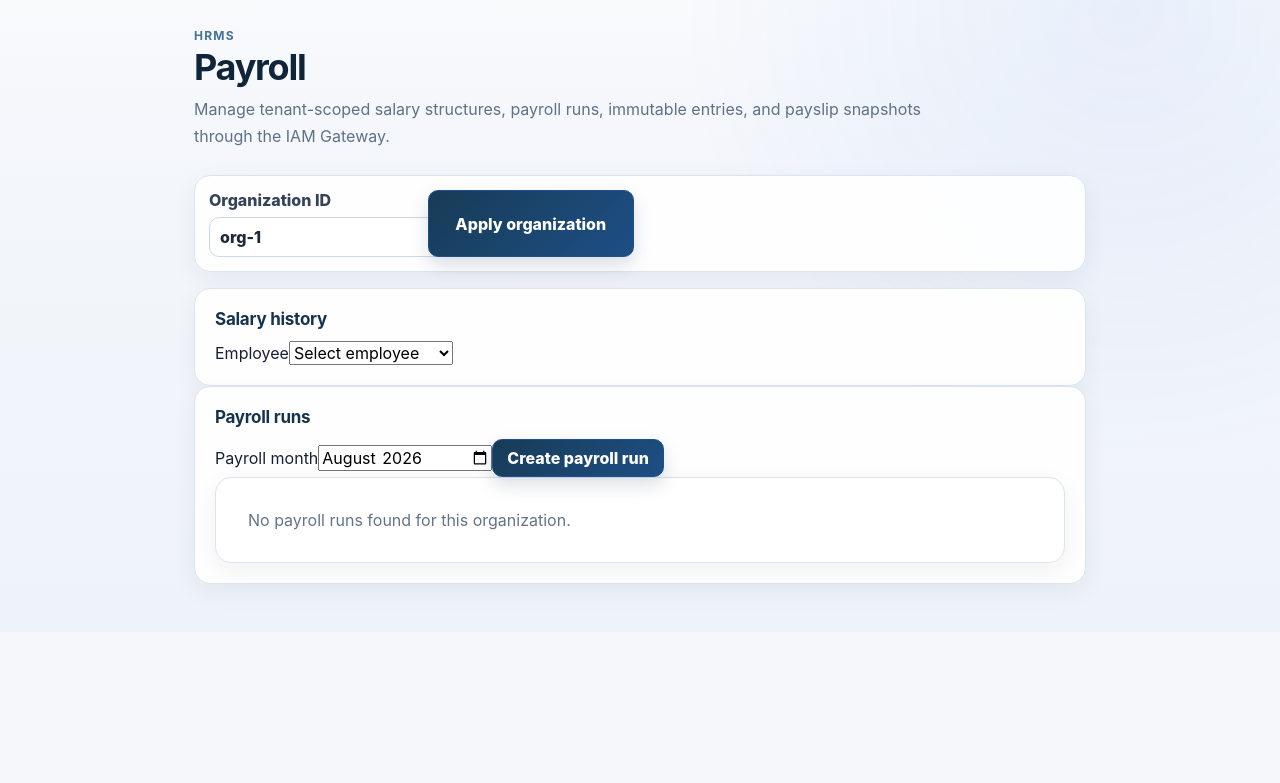
PayrollPage › shows versioned salary history and revises the current version
Select "EMP-001 (ACTIVE)" in the dropdown labelled "Employee" at (371, 353), box [289,341,453,365]
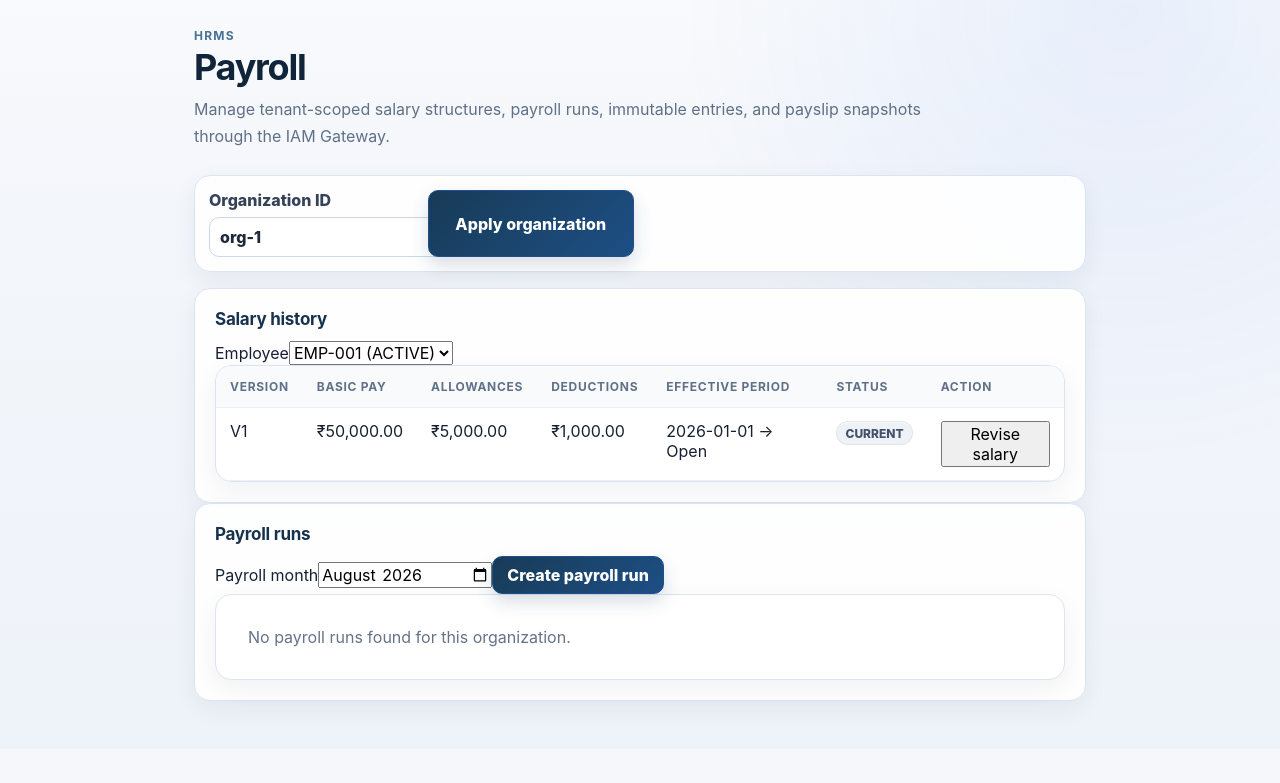
Expected: the text "V1" is shown, [216,408,303,481]
Expected: the text "2026-01-01 → Open" is shown, [652,408,822,481]
Expected: the text "CURRENT" is shown, [836,421,913,445]
Click the button "Revise salary" at (995, 444), box [941,421,1050,467]
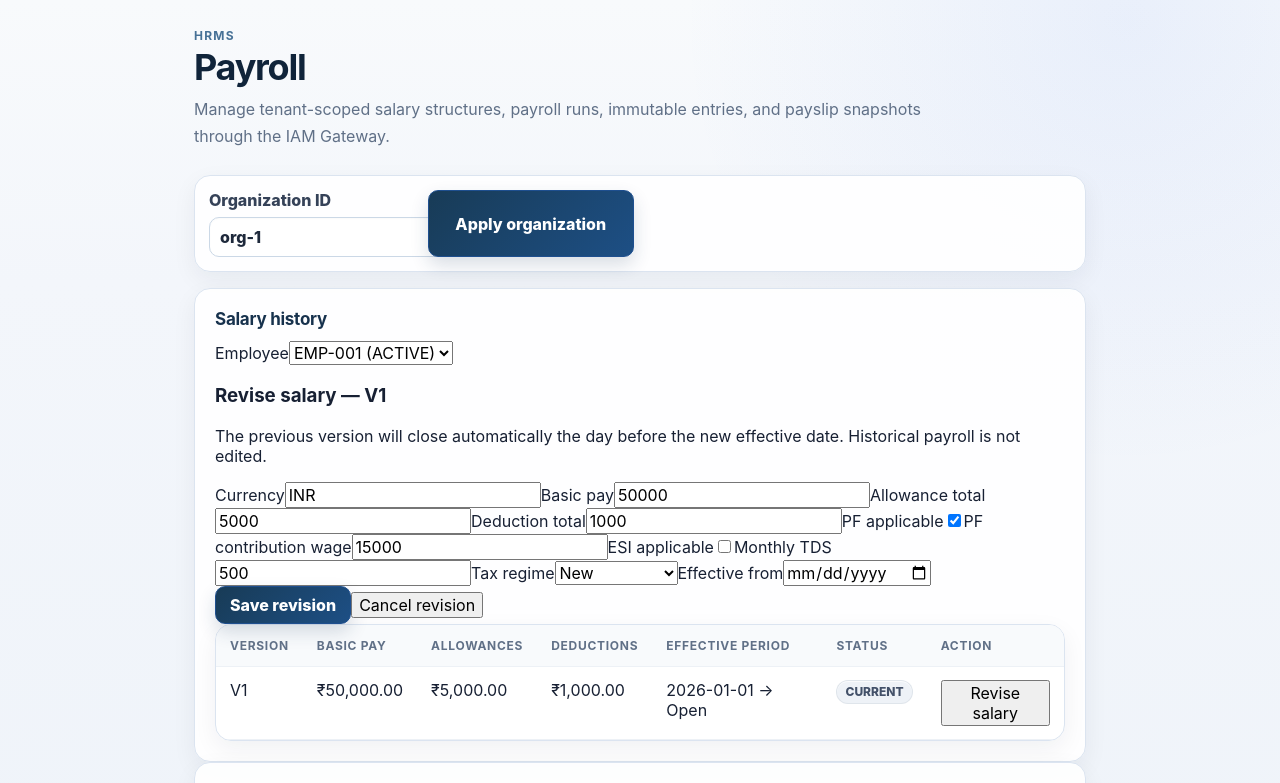
Expected: the heading "Revise salary — V1" is shown, [215,384,386,407]
Expected: the number field labelled "Basic pay" holds "50000"
Expected: the number field labelled "Allowance total" holds "5000", [215,508,471,534]
Replace the text in the number field labelled "Basic pay" with "60000" at (742, 495), box [614,482,870,508]
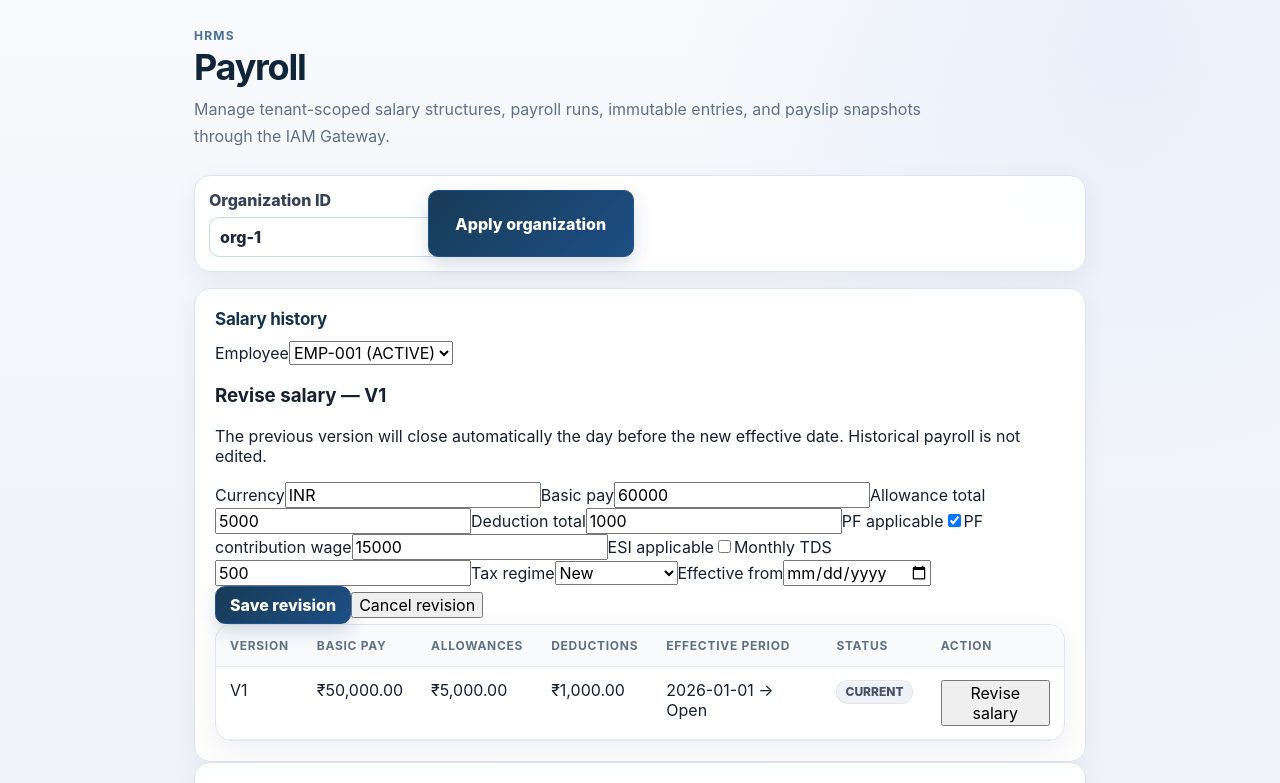
Type "2026-09-01" into the date field labelled "Effective from" at (857, 573), box [783,560,931,586]
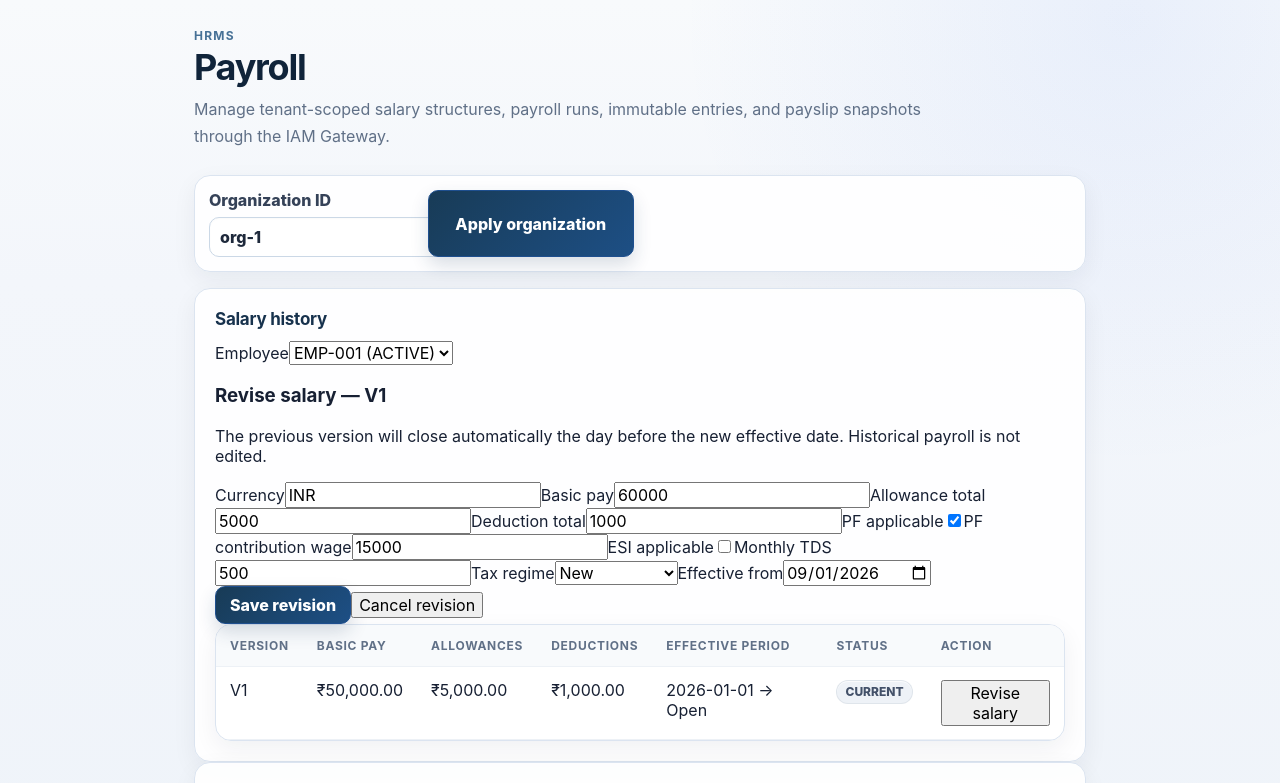
Click the button "Save revision" at (283, 605), box [215,586,351,624]
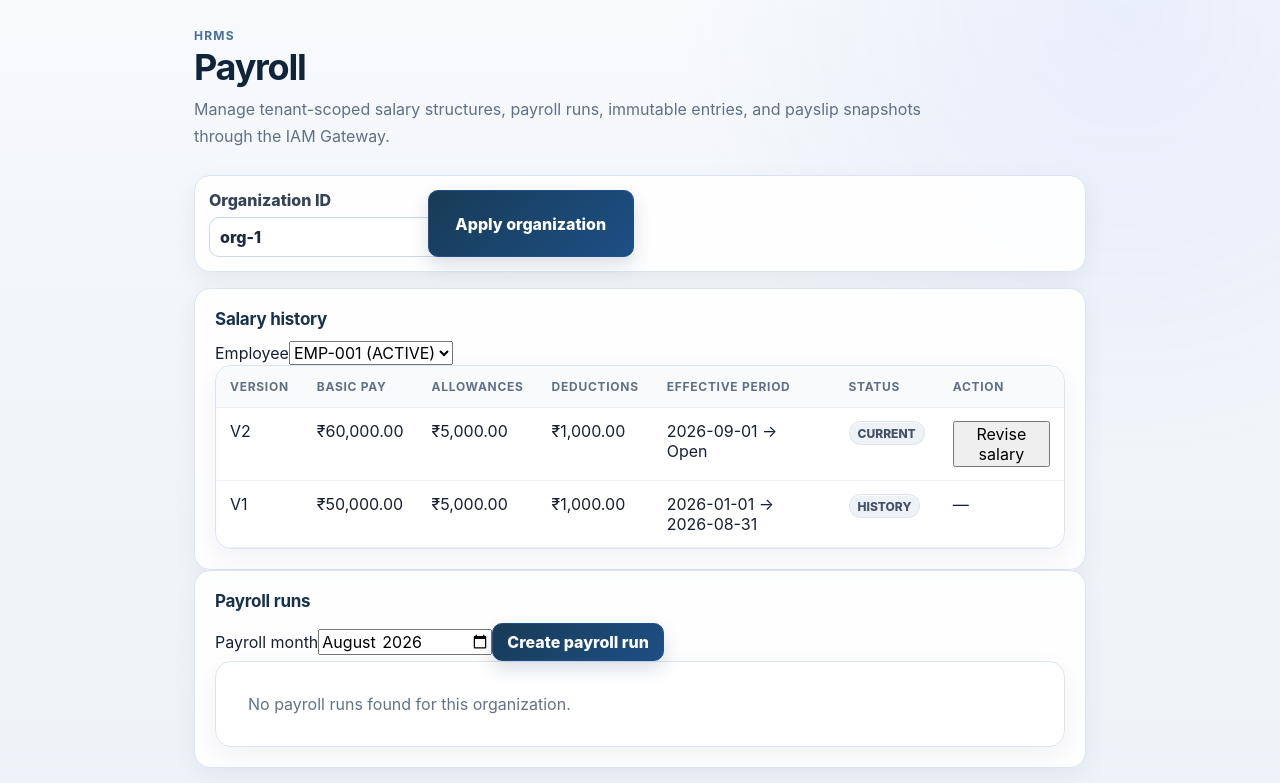
Expected: the text "V2" is shown, [216,408,303,481]
Expected: the text "2026-01-01 → 2026-08-31" is shown, [653,481,834,548]
Expected: the text "2026-09-01 → Open" is shown, [653,408,834,481]
